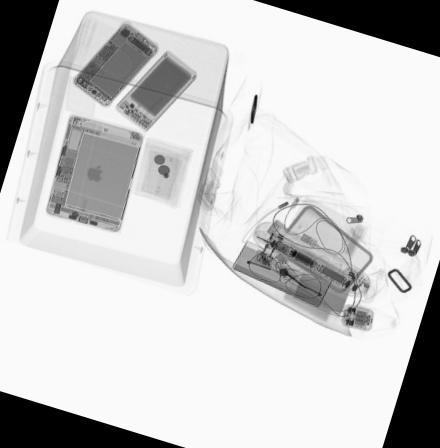Powerbank: (115, 49, 199, 131)
